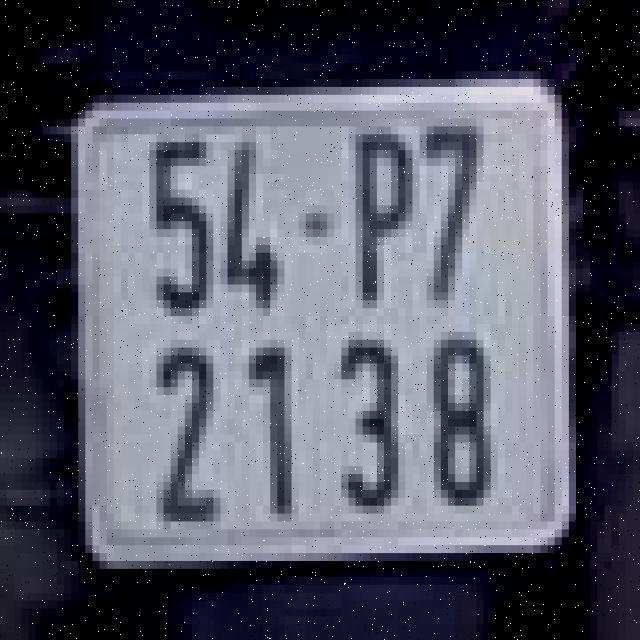1: (235, 336, 313, 525)
2: (142, 336, 235, 533)
3: (331, 336, 409, 525)
4: (220, 114, 292, 328)
5: (139, 134, 224, 324)
7: (416, 107, 487, 312)
8: (413, 324, 519, 514)
P: (342, 119, 419, 316)
